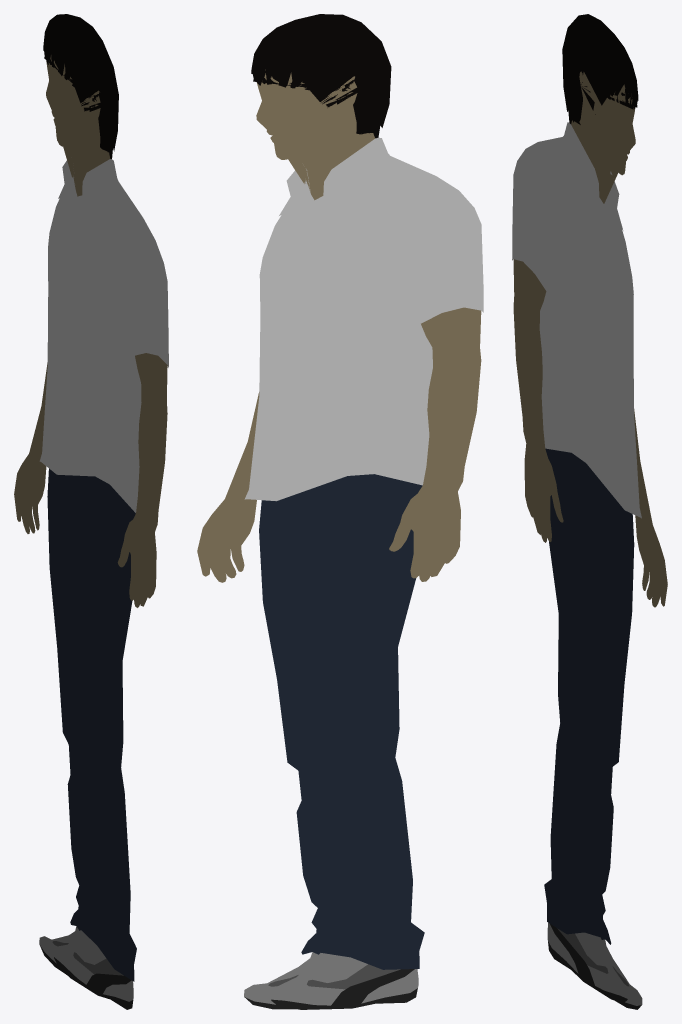
3 views of the same model, side by side, from view 1: azimuth 90°, elevation 25°; view 2: azimuth 150°, elevation 25°; view 3: azimuth 270°, elevation 25° (orthographic). The views are drawn at different scales.
Parts seen in each view (by area): view 1: Mesh1 Sang1 Model; view 2: Mesh1 Sang1 Model; view 3: Mesh1 Sang1 Model.
Boxes of the visible parts, bbox=[...] form: Mesh1 Sang1 Model: bbox=[14, 14, 168, 1009]; Mesh1 Sang1 Model: bbox=[197, 14, 483, 1009]; Mesh1 Sang1 Model: bbox=[512, 14, 667, 1009].
Bounding box in the file's own units: 0.3827 × 1.76 × 0.2552.
